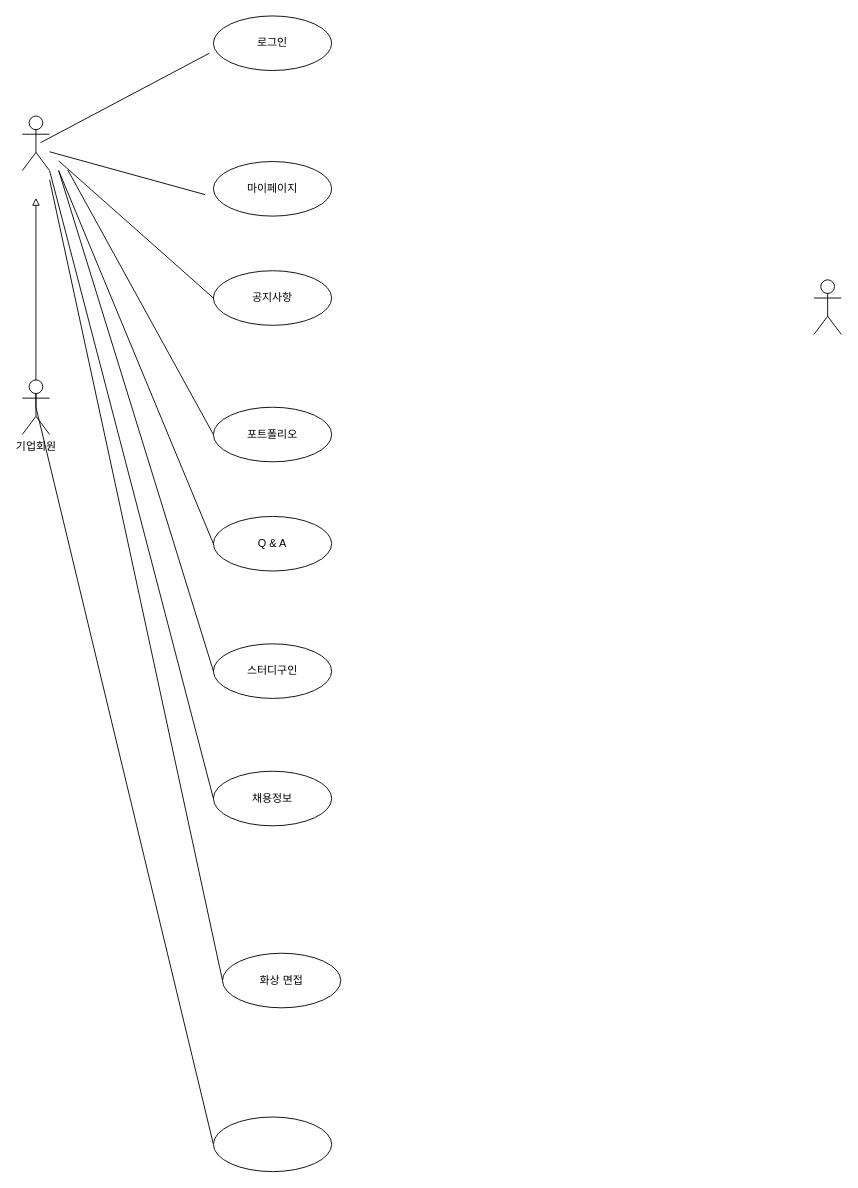
Image size: 858x1188. Some labels were removed from this diagram. Each missing label, with the centre of its shape:
"관리자" goes at [827,306].
"광고 문의" goes at [272,1144].
"일반회원" goes at [35,143].
